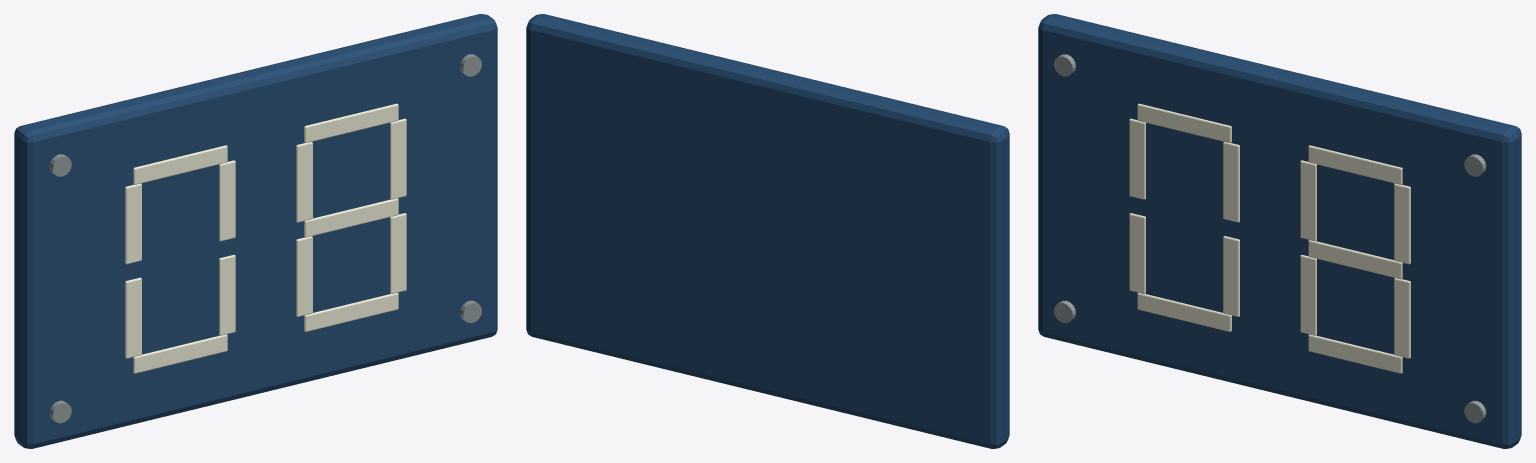
The model's file is hawker-stall-number-plate.glb.
3 views of the same model, side by side, from view 1: azimuth 30°, elevation 25°; view 2: azimuth 150°, elevation 25°; view 3: azimuth 330°, elevation 25° (orthographic).
Parts seen in each view (by area): view 1: PLATE, DIGIT_Right_a, DIGIT_Left_a, DIGIT_Left_d, DIGIT_Right_d, DIGIT_Right_g, DIGIT_Left_e, DIGIT_Left_c, DIGIT_Right_e, DIGIT_Left_f, DIGIT_Right_f, DIGIT_Right_b (+2 smaller); view 2: PLATE; view 3: PLATE, DIGIT_Left_a, DIGIT_Right_a, DIGIT_Right_g, DIGIT_Right_d, DIGIT_Left_d, DIGIT_Left_c, DIGIT_Left_e, DIGIT_Right_c, DIGIT_Left_b, DIGIT_Right_b, DIGIT_Right_e (+2 smaller).
Boxes of the visible parts, bbox=[...] form: PLATE: bbox=[14, 14, 497, 448]; DIGIT_Right_a: bbox=[304, 103, 398, 143]; DIGIT_Left_a: bbox=[133, 145, 227, 184]; DIGIT_Left_d: bbox=[133, 334, 227, 373]; DIGIT_Right_d: bbox=[304, 292, 398, 331]; DIGIT_Right_g: bbox=[304, 198, 398, 237]; DIGIT_Left_e: bbox=[125, 277, 141, 358]; DIGIT_Left_c: bbox=[219, 255, 235, 335]; DIGIT_Right_e: bbox=[296, 236, 312, 316]; DIGIT_Left_f: bbox=[125, 183, 141, 264]; DIGIT_Right_f: bbox=[296, 142, 312, 222]; DIGIT_Right_b: bbox=[390, 118, 406, 199]; PLATE: bbox=[526, 14, 1009, 448]; PLATE: bbox=[1038, 14, 1521, 448]; DIGIT_Left_a: bbox=[1137, 103, 1231, 143]; DIGIT_Right_a: bbox=[1308, 145, 1402, 184]; DIGIT_Right_g: bbox=[1308, 240, 1402, 279]; DIGIT_Right_d: bbox=[1308, 334, 1402, 373]; DIGIT_Left_d: bbox=[1137, 292, 1231, 331]; DIGIT_Left_c: bbox=[1223, 236, 1239, 316]; DIGIT_Left_e: bbox=[1129, 213, 1145, 293]; DIGIT_Right_c: bbox=[1394, 278, 1410, 358]; DIGIT_Left_b: bbox=[1223, 142, 1239, 222]; DIGIT_Right_b: bbox=[1394, 183, 1410, 264]; DIGIT_Right_e: bbox=[1300, 255, 1316, 335].
Size of the model in its own units: 0.25 by 0.16 by 0.0175.
